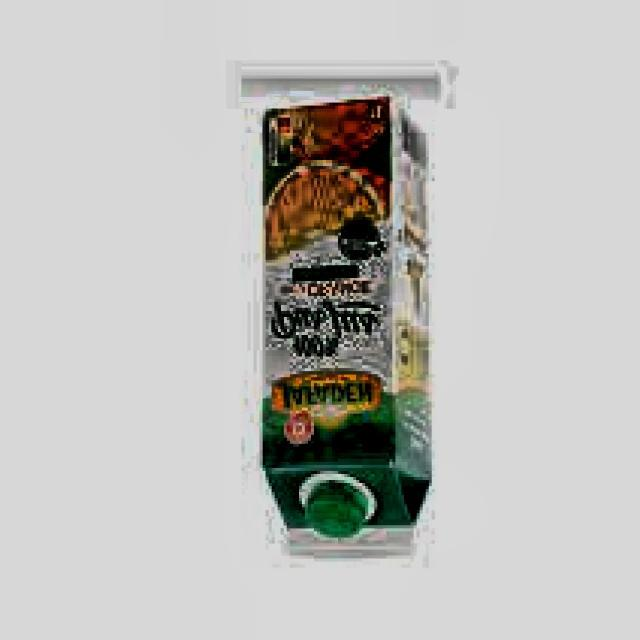cardboard: (245, 81, 434, 564)
